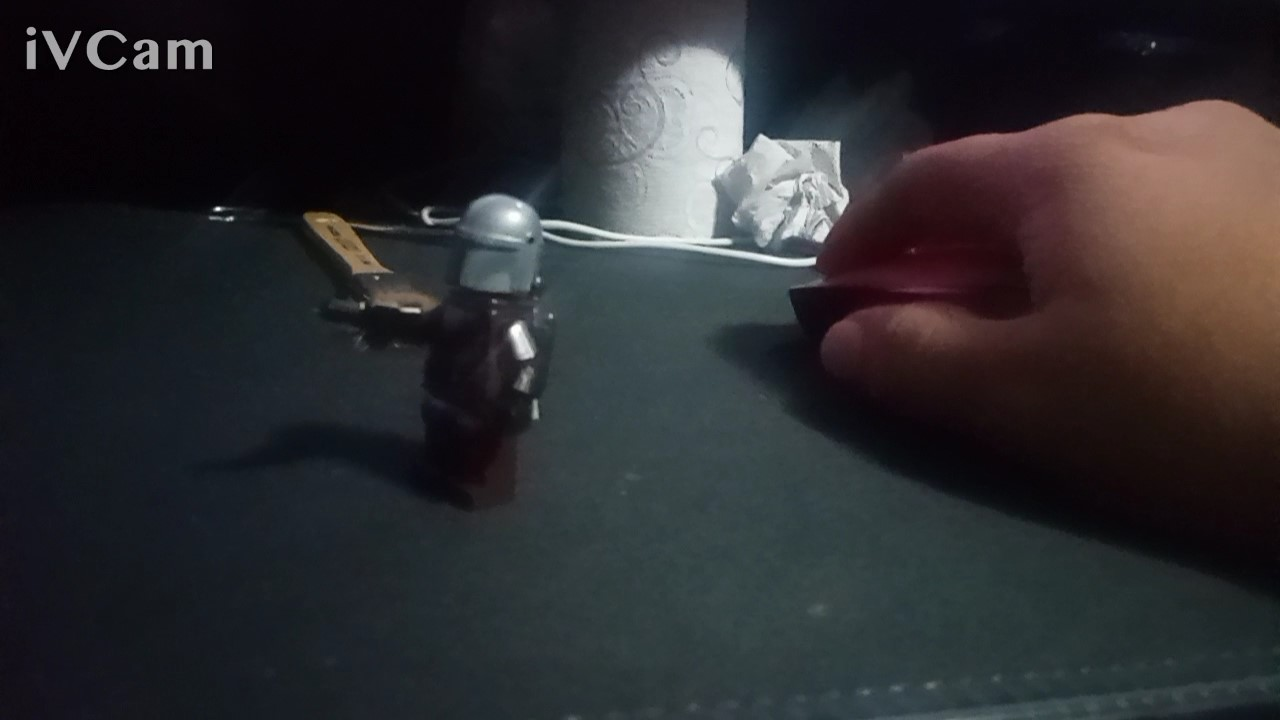mandalorian: (306, 182, 597, 516)
